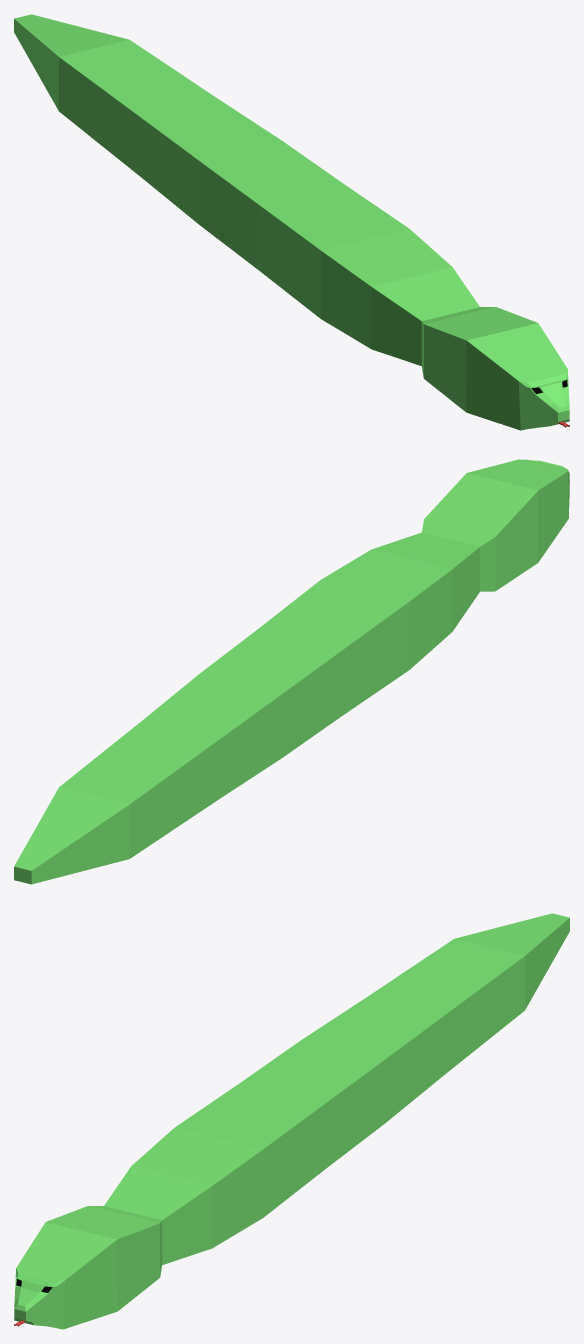
The model's file is obj_snake1.fbx.
3 views of the same model, one above another, from view 1: azimuth 30°, elevation 25°; view 2: azimuth 150°, elevation 25°; view 3: azimuth 330°, elevation 25° (orthographic).
Visible parts, largest first — view 1: char_snake; view 2: char_snake; view 3: char_snake.
Part boxes in pixels (box(x1,y1,x2,y2)): char_snake: box(14, 14, 569, 430); char_snake: box(14, 459, 569, 884); char_snake: box(14, 913, 569, 1329).
Size of the model in its own units: 264 by 219 by 2809.
